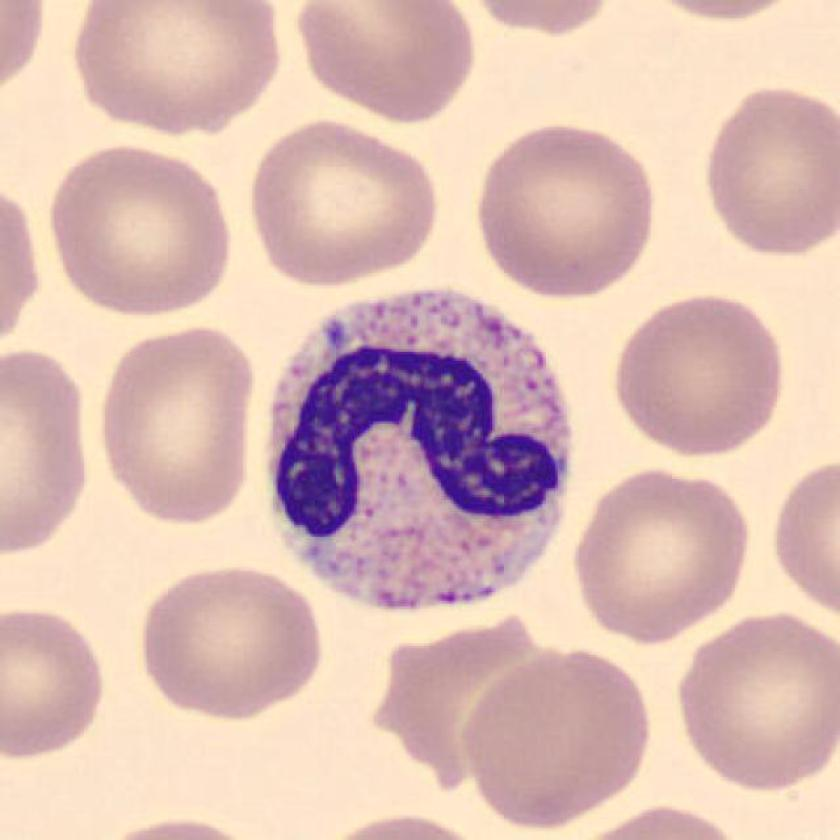neutrophil: (265, 291, 569, 610)
